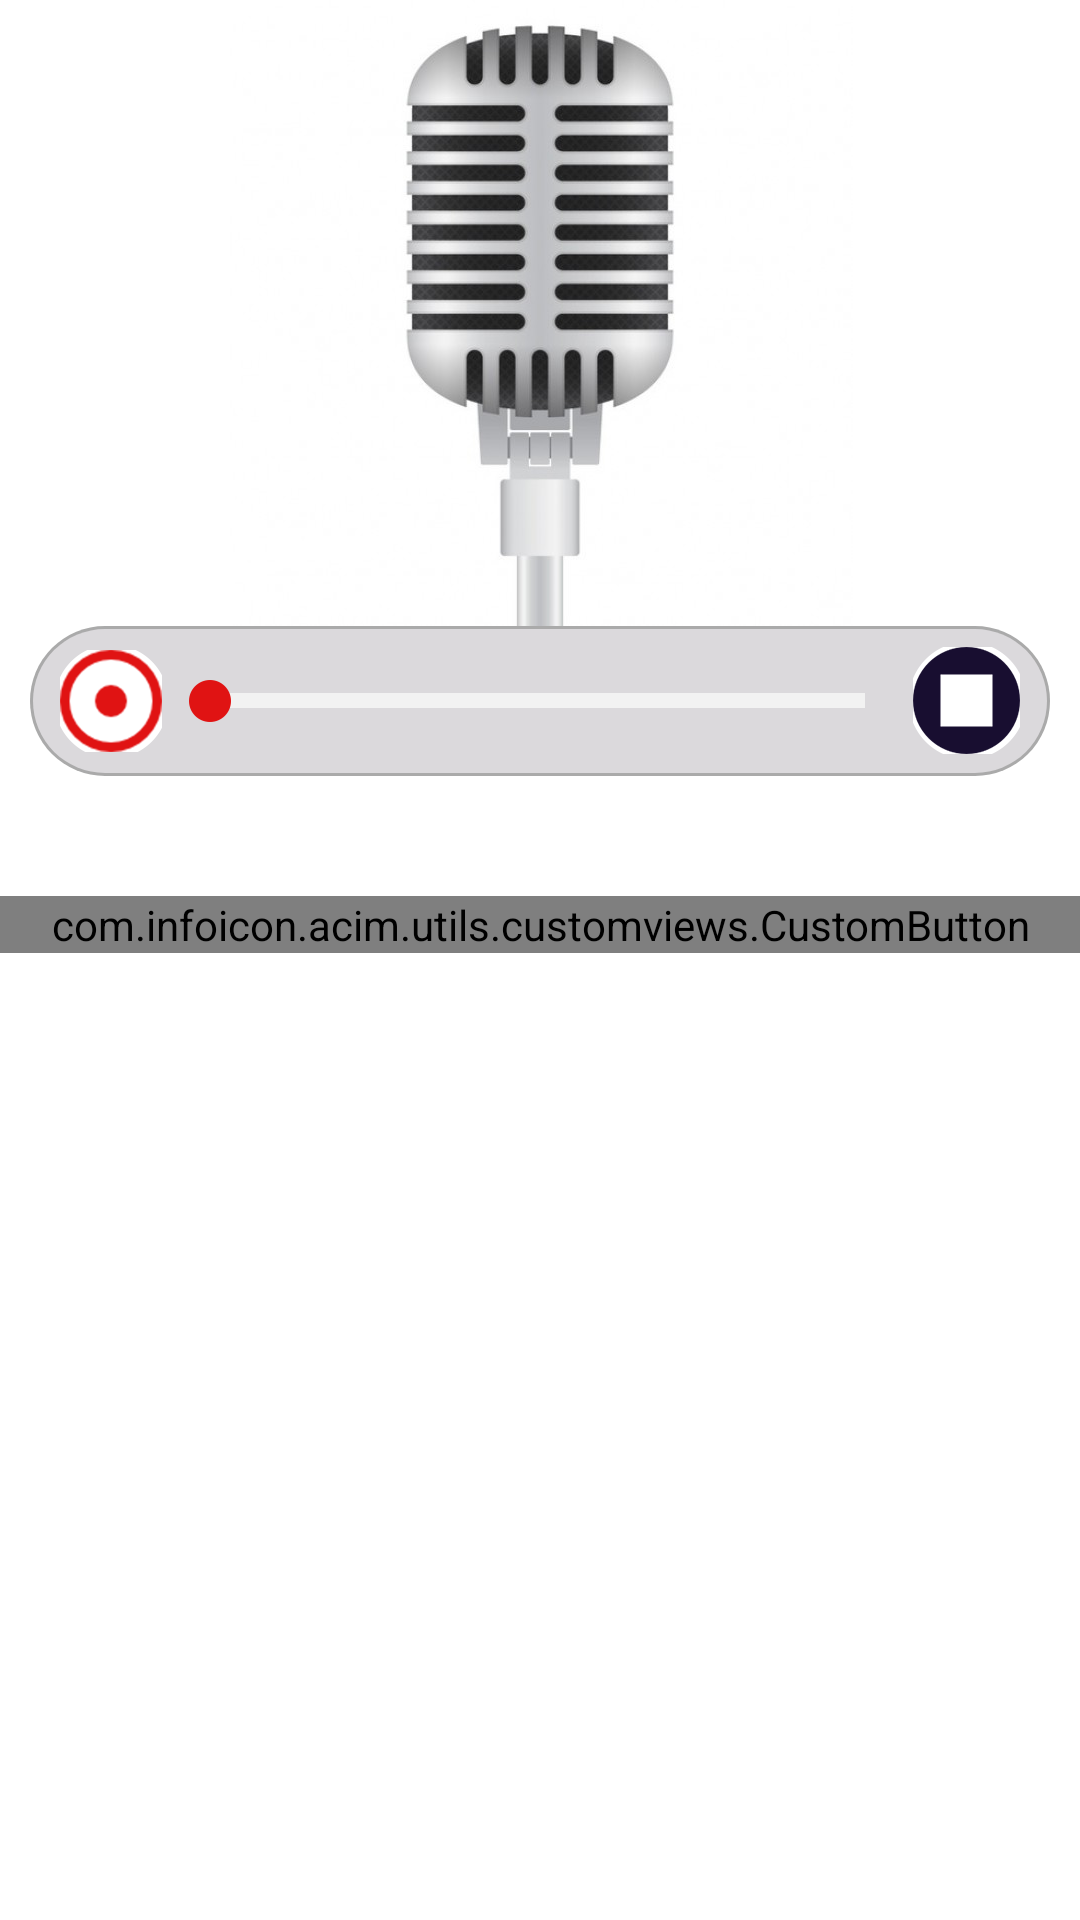

Named icons in this screenshot (1080 x 1920) and their centers, (x=x, y=y):
record start: (x=111, y=701)
record stop: (x=966, y=700)
